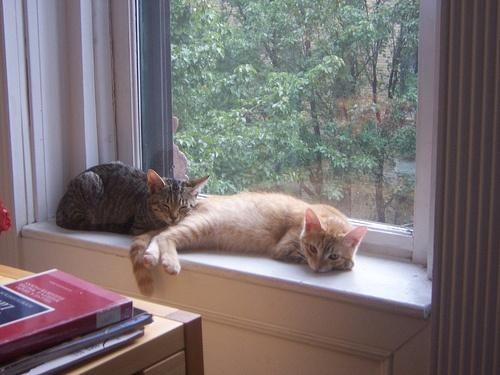cat: (129, 192, 368, 301), (54, 160, 212, 237)
